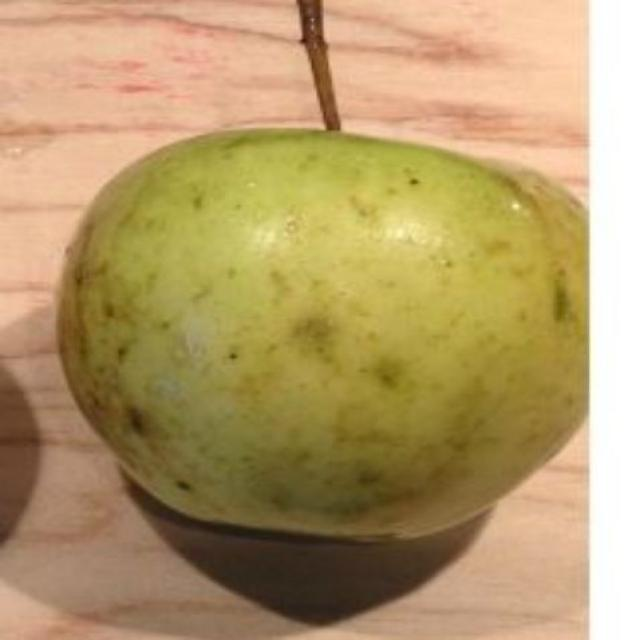Rotten Apple: (37, 119, 611, 563)
